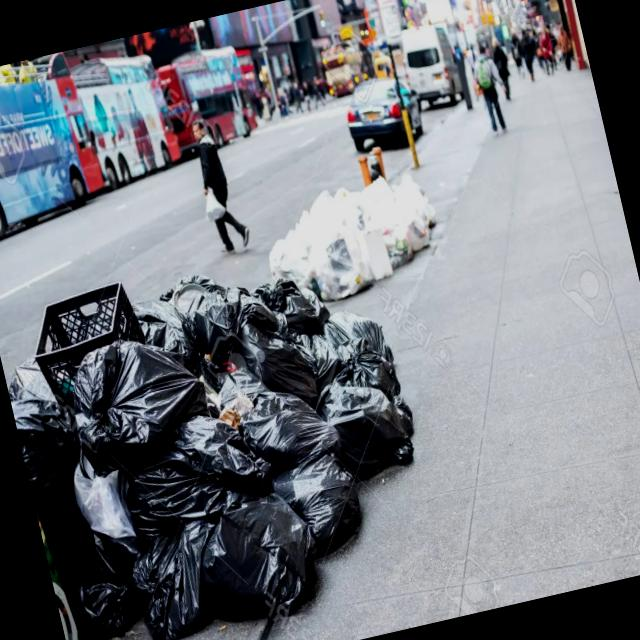garbage: (0, 218, 464, 640)
